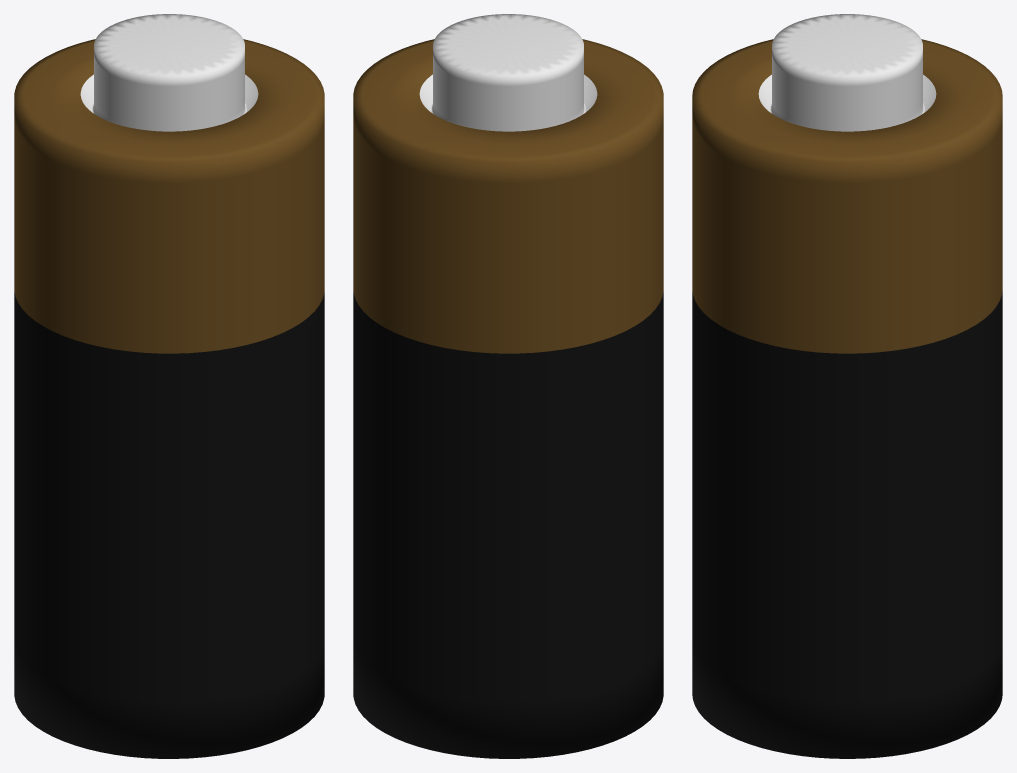
File: battery.fbx
3 views of the same model, side by side, from view 1: azimuth 30°, elevation 25°; view 2: azimuth 150°, elevation 25°; view 3: azimuth 270°, elevation 25° (orthographic).
Visible parts, largest first — view 1: Cylinder; view 2: Cylinder; view 3: Cylinder.
Part boxes in pixels (x1,y1,x2,y2): Cylinder: [14, 14, 324, 758]; Cylinder: [353, 14, 663, 758]; Cylinder: [692, 14, 1002, 758].
Bounding box in the file's own units: 41.53 × 96.32 × 41.53.
